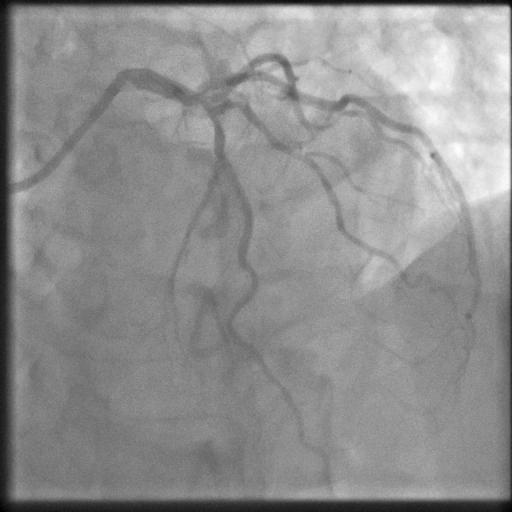Stenosis: (195, 98, 227, 132)
